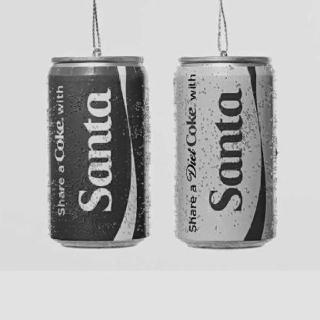alumunium_can: (46, 52, 152, 250), (173, 54, 277, 252)
